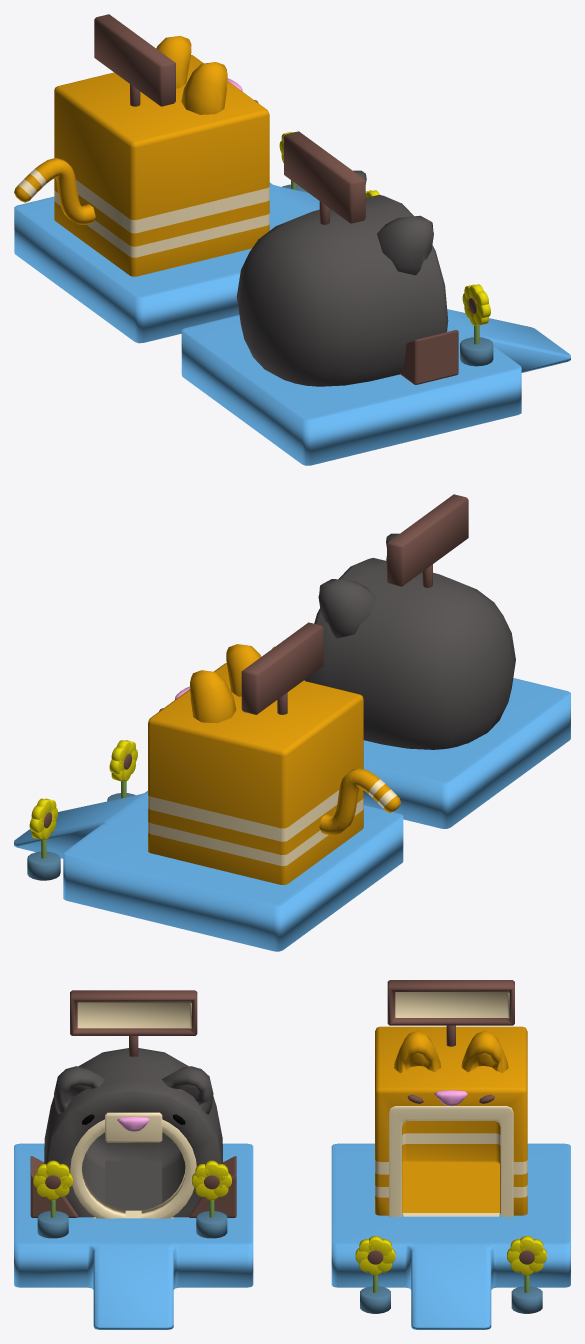
Rendered from start_finish_houses.fbx.
3 views of the same model, one above another, from view 1: azimuth 30°, elevation 25°; view 2: azimuth 150°, elevation 25°; view 3: azimuth 270°, elevation 25° (orthographic). The views are drawn at different scales.
Visible parts, largest first — view 1: Cube, body, plateau, plateau_2, board.001, board, ears_2, ears, stands, tail_2, flower_pot_2, flower_padels_2; view 2: Cube, plateau_2, body, plateau, board.001, board, ears_2, ears, tail_2, pot_1.003, flower_padels.003, flower_padels.004; view 3: plateau_2, plateau, Cube, body, board.001, board, Cube.001, lips, ears_2, ears, stands, nose_2 (+8 smaller).
Boxes of the visible parts, x1=… form: Cube: x1=54, y1=55, x2=269, y2=276; body: x1=236, y1=194, x2=448, y2=386; plateau: x1=181, y1=309, x2=570, y2=465; plateau_2: x1=14, y1=182, x2=319, y2=343; board.001: x1=94, y1=14, x2=175, y2=106; board: x1=284, y1=131, x2=365, y2=223; ears_2: x1=156, y1=36, x2=227, y2=114; ears: x1=353, y1=170, x2=433, y2=275; stands: x1=400, y1=330, x2=458, y2=384; tail_2: x1=14, y1=158, x2=95, y2=224; flower_pot_2: x1=460, y1=337, x2=493, y2=366; flower_padels_2: x1=462, y1=284, x2=490, y2=325; Cube: x1=148, y1=663, x2=363, y2=884; plateau_2: x1=14, y1=791, x2=403, y2=951; body: x1=304, y1=558, x2=515, y2=749; plateau: x1=304, y1=678, x2=570, y2=828; board.001: x1=241, y1=622, x2=323, y2=714; board: x1=387, y1=494, x2=468, y2=586; ears_2: x1=190, y1=644, x2=261, y2=723; ears: x1=318, y1=533, x2=399, y2=638; tail_2: x1=319, y1=768, x2=400, y2=835; pot_1.003: x1=27, y1=851, x2=60, y2=880; flower_padels.003: x1=29, y1=798, x2=57, y2=839; flower_padels.004: x1=109, y1=740, x2=137, y2=781; plateau_2: x1=331, y1=1143, x2=570, y2=1329; plateau: x1=14, y1=1143, x2=253, y2=1329; Cube: x1=375, y1=1026, x2=527, y2=1215; body: x1=44, y1=1048, x2=222, y2=1217; board.001: x1=387, y1=980, x2=514, y2=1025; board: x1=70, y1=990, x2=197, y2=1035; Cube.001: x1=389, y1=1106, x2=513, y2=1216; lips: x1=70, y1=1119, x2=196, y2=1218; ears_2: x1=394, y1=1030, x2=508, y2=1073; ears: x1=54, y1=1066, x2=213, y2=1114; stands: x1=30, y1=1156, x2=236, y2=1217; nose_2: x1=105, y1=1112, x2=162, y2=1142.
Size of the model in its own units: 1649 by 1053 by 2280.
